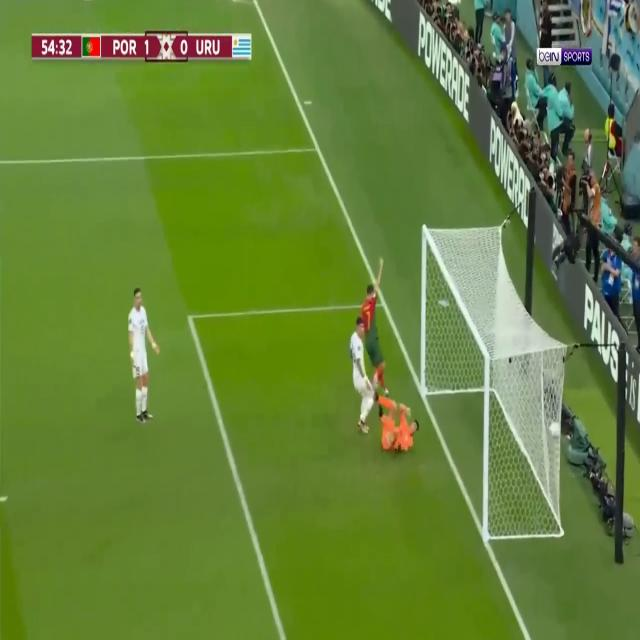ball: (551, 421, 559, 435)
team1: (363, 256, 391, 399)
team2: (126, 286, 158, 424), (351, 320, 376, 441)
